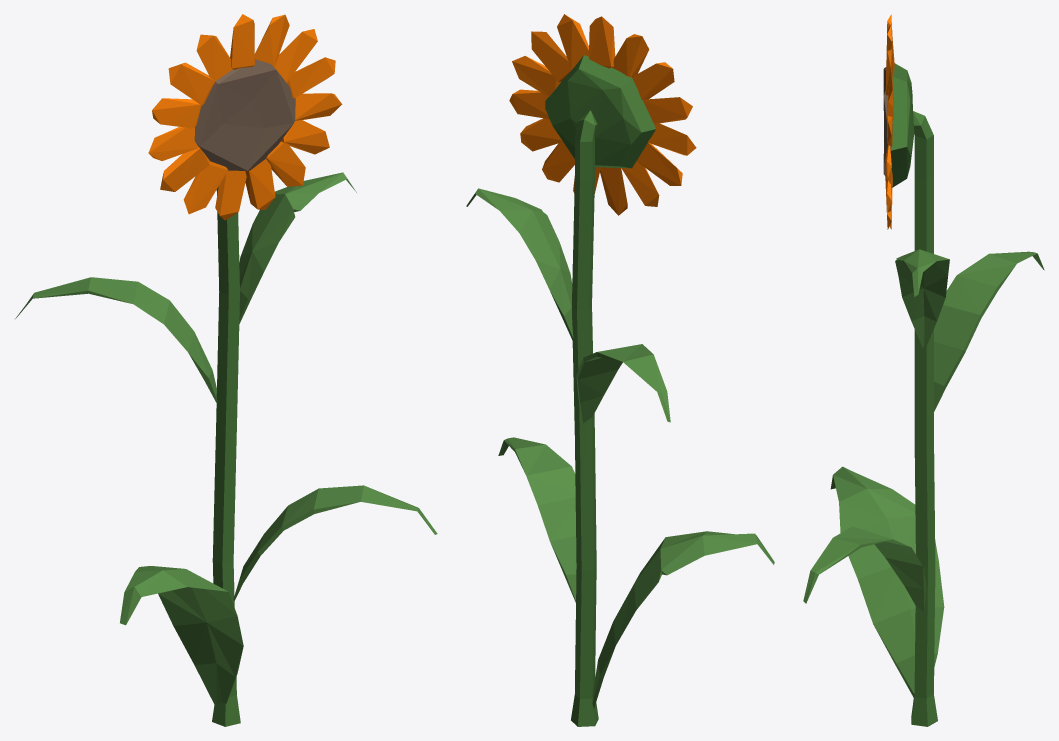
The model's file is Sunflower_01.fbx.
The picture shows the model from 3 angles, left to right: view 1: azimuth 30°, elevation 25°; view 2: azimuth 150°, elevation 25°; view 3: azimuth 270°, elevation 25°; orthographic projection. The views are drawn at different scales.
Visible parts, largest first — view 1: Sunflower_01_LOD0; view 2: Sunflower_01_LOD0; view 3: Sunflower_01_LOD0.
Boxes of the visible parts, <box> form: Sunflower_01_LOD0: <box>15,14,437,726</box>; Sunflower_01_LOD0: <box>466,14,774,726</box>; Sunflower_01_LOD0: <box>803,14,1044,726</box>.
Size of what is drawn, in the model's own units: 54 by 123 by 38.61.
